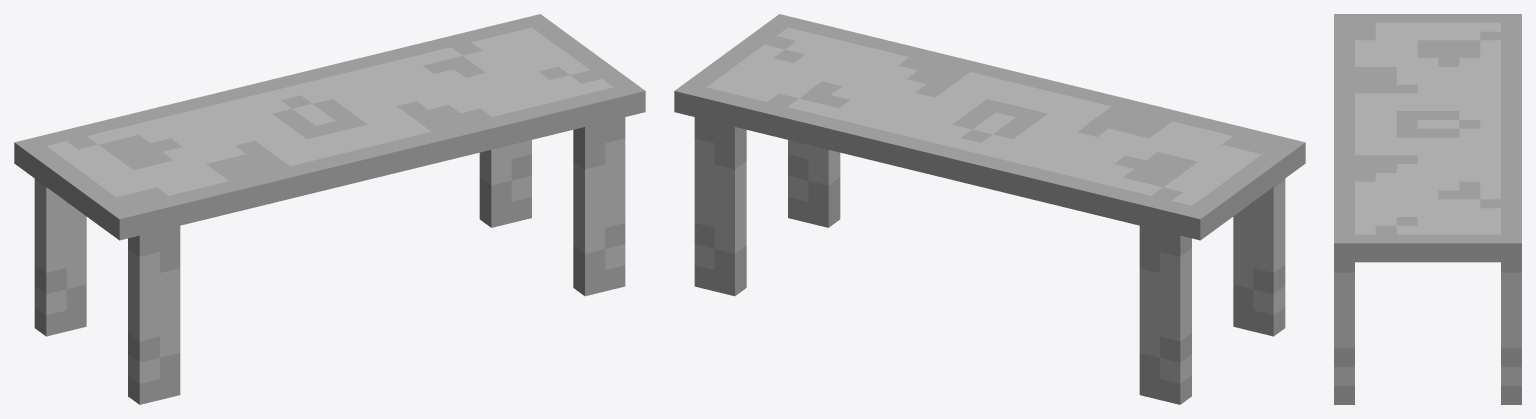
File: desk_nm.fbx
The picture shows the model from 3 angles, left to right: view 1: azimuth 30°, elevation 25°; view 2: azimuth 150°, elevation 25°; view 3: azimuth 270°, elevation 25°; orthographic projection. The views are drawn at different scales.
Visible parts, largest first — view 1: 多边形; view 2: 多边形; view 3: 多边形.
Part boxes in pixels (left/top/right/bottom): 多边形: left=14, top=14, right=645, bottom=404; 多边形: left=674, top=14, right=1305, bottom=404; 多边形: left=1334, top=14, right=1521, bottom=404.
Bounding box in the file's own units: 2.6 × 0.9 × 0.9.
Materials: 1 (1 with a texture image).
